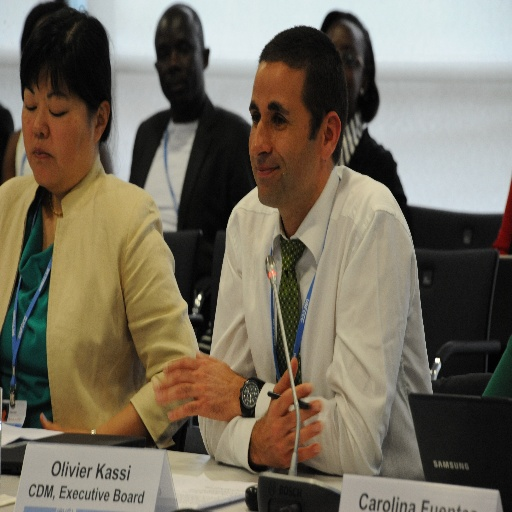hand: (137, 349, 260, 430), (252, 349, 324, 468), (36, 412, 91, 435)
